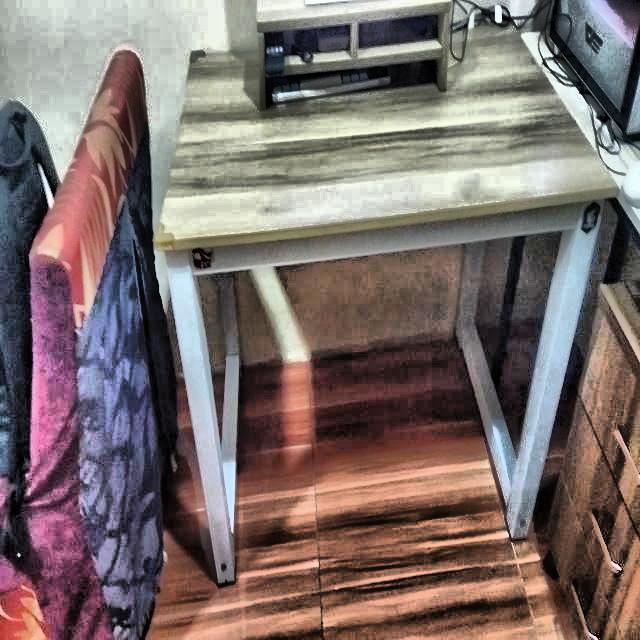mesa: (152, 17, 618, 574)
